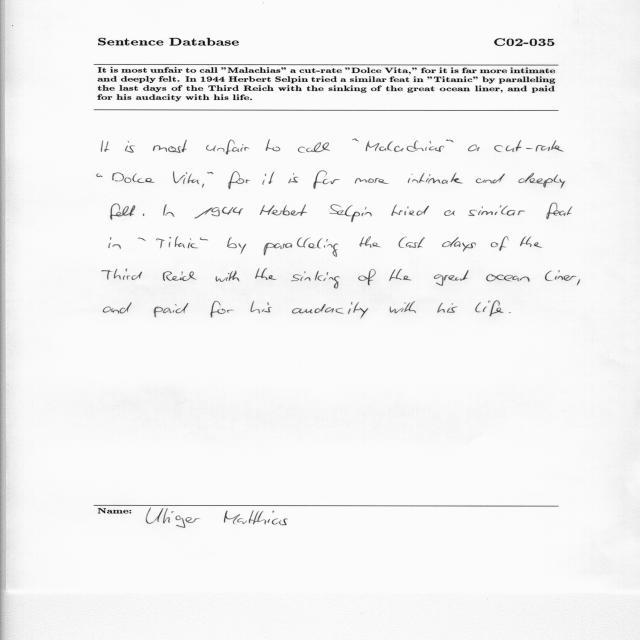word: (264, 237, 338, 257), (292, 302, 368, 319), (366, 140, 444, 152), (291, 271, 340, 289), (494, 140, 564, 152), (330, 205, 372, 223), (518, 173, 565, 188), (206, 140, 250, 155), (468, 205, 525, 216), (156, 237, 208, 249), (408, 173, 463, 184), (260, 204, 307, 216), (434, 270, 469, 286), (194, 207, 243, 218), (442, 237, 476, 252), (154, 303, 189, 317), (313, 171, 340, 189), (102, 268, 142, 280), (112, 172, 155, 183), (391, 204, 429, 216), (153, 140, 187, 153), (111, 203, 136, 220), (476, 301, 504, 316), (547, 203, 573, 219), (228, 171, 250, 189), (211, 301, 234, 317), (298, 142, 330, 153), (486, 274, 530, 282), (545, 270, 577, 281), (103, 302, 132, 314), (173, 171, 199, 184), (163, 271, 196, 281), (389, 301, 416, 313), (399, 236, 425, 248), (476, 174, 505, 184), (216, 270, 240, 282), (358, 269, 376, 285), (491, 236, 509, 251), (520, 236, 542, 248), (255, 268, 277, 280), (389, 269, 411, 281), (251, 302, 272, 314), (359, 237, 381, 248), (355, 178, 389, 184), (438, 303, 458, 313), (266, 139, 280, 152), (262, 172, 274, 185), (163, 204, 175, 217), (109, 237, 121, 249), (125, 141, 135, 153), (227, 237, 237, 248), (289, 173, 299, 183), (101, 140, 109, 152), (239, 243, 247, 254), (468, 145, 480, 152), (444, 210, 455, 216), (138, 237, 146, 241), (446, 139, 453, 143), (97, 173, 103, 177), (577, 279, 580, 285), (352, 139, 359, 141), (208, 172, 214, 174), (202, 183, 204, 188), (143, 214, 145, 216), (509, 312, 511, 313)
